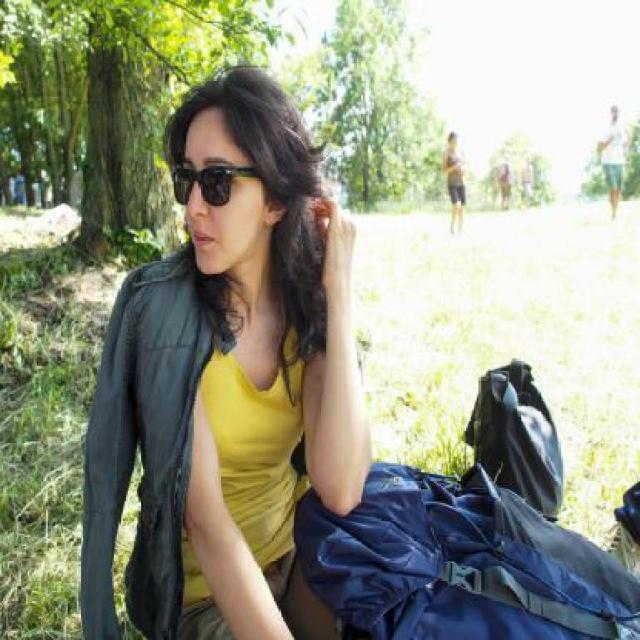face_nomask: (170, 154, 248, 261)
glasses: (164, 158, 270, 213)
hand_noglove: (316, 195, 372, 273)
head_nohelmet: (154, 61, 294, 152)
